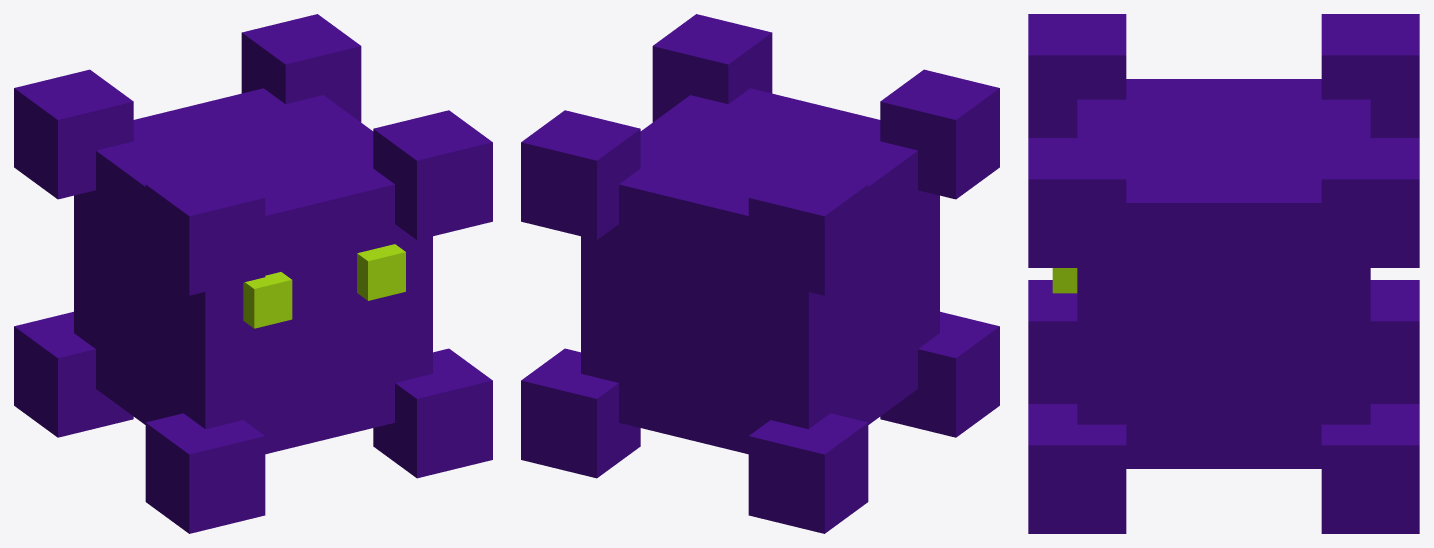
File: Diabrosis.fbx
3 renders of one model, left to right at view 1: azimuth 30°, elevation 25°; view 2: azimuth 150°, elevation 25°; view 3: azimuth 270°, elevation 25°, orthographic. The views are drawn at different scales.
Parts seen in each view (by area): view 1: Cube.001, Cube.011, Cube.010; view 2: Cube.001; view 3: Cube.001, Cube.010.
Part boxes in pixels (left/top/right/bottom): Cube.001: left=14, top=14, right=492, bottom=533; Cube.011: left=243, top=272, right=292, bottom=328; Cube.010: left=357, top=244, right=405, bottom=300; Cube.001: left=521, top=14, right=999, bottom=533; Cube.001: left=1028, top=14, right=1419, bottom=533; Cube.010: left=1052, top=268, right=1077, bottom=293.
Bounding box in the file's own units: 160 × 160 × 160.
